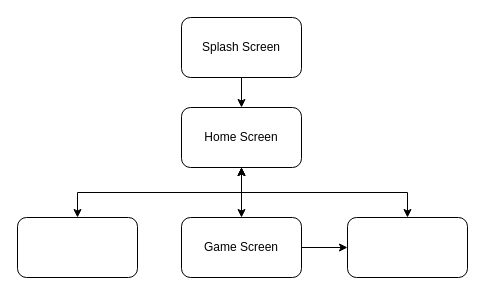
This 485x295 diagram has some shape labels left out. The box of each missing label's shape, as (x1, y1, x2, y2) in pixels:
Configuration Screen: (16, 216, 138, 278)
High Score Screen: (346, 216, 468, 278)
